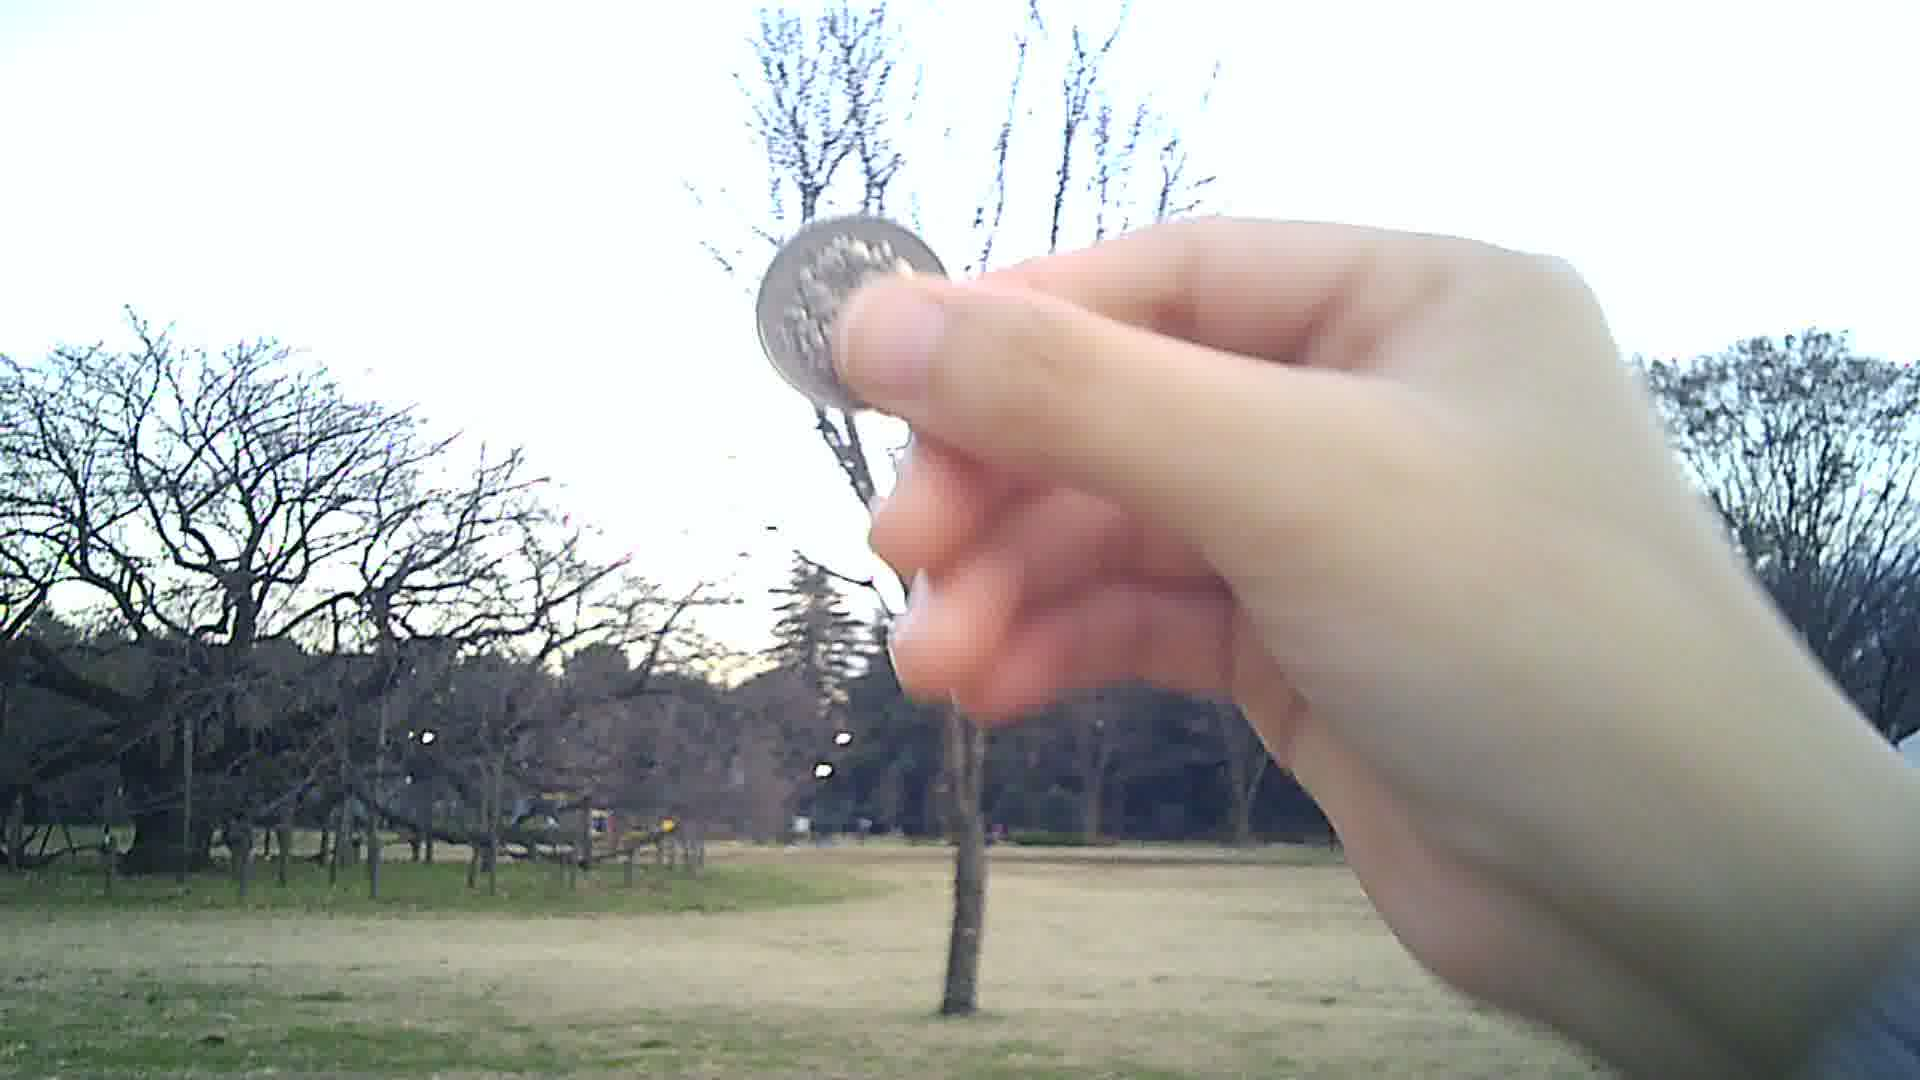100 Yen: (756, 218, 955, 413)
